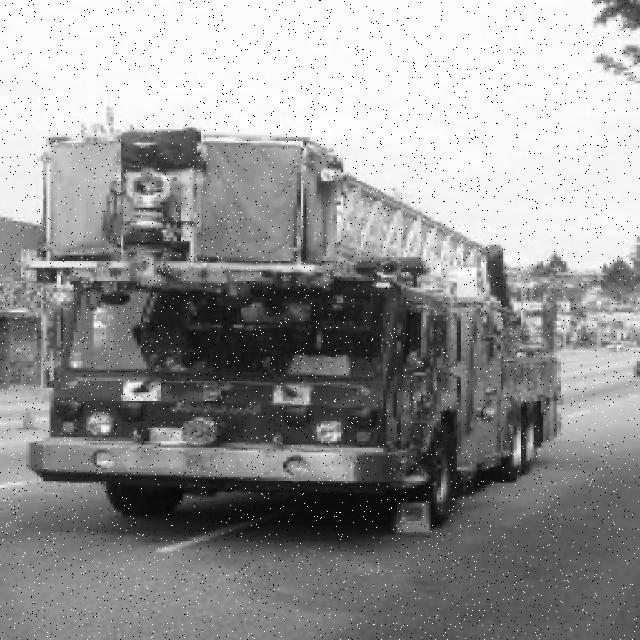Fire Truck: (16, 128, 563, 538)
